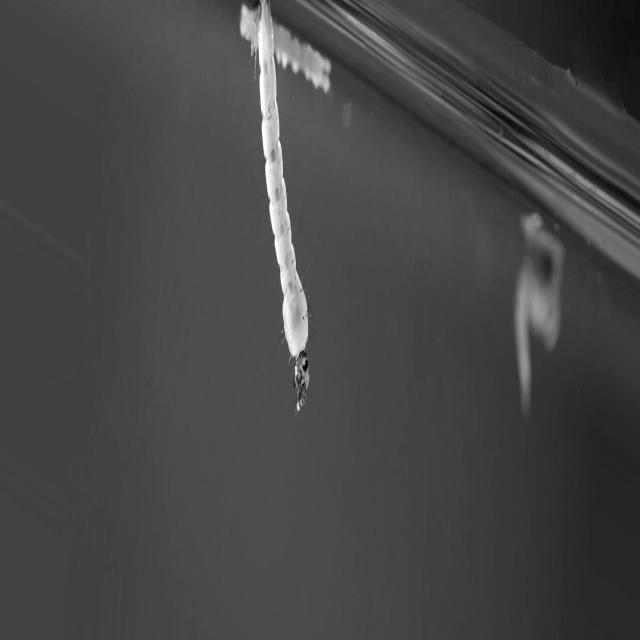larvas: (242, 0, 320, 418), (512, 228, 563, 400), (276, 14, 339, 121)
